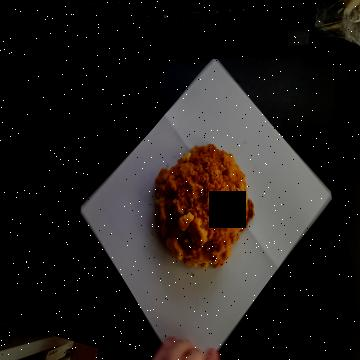soboru_bread: (158, 147, 254, 270)
